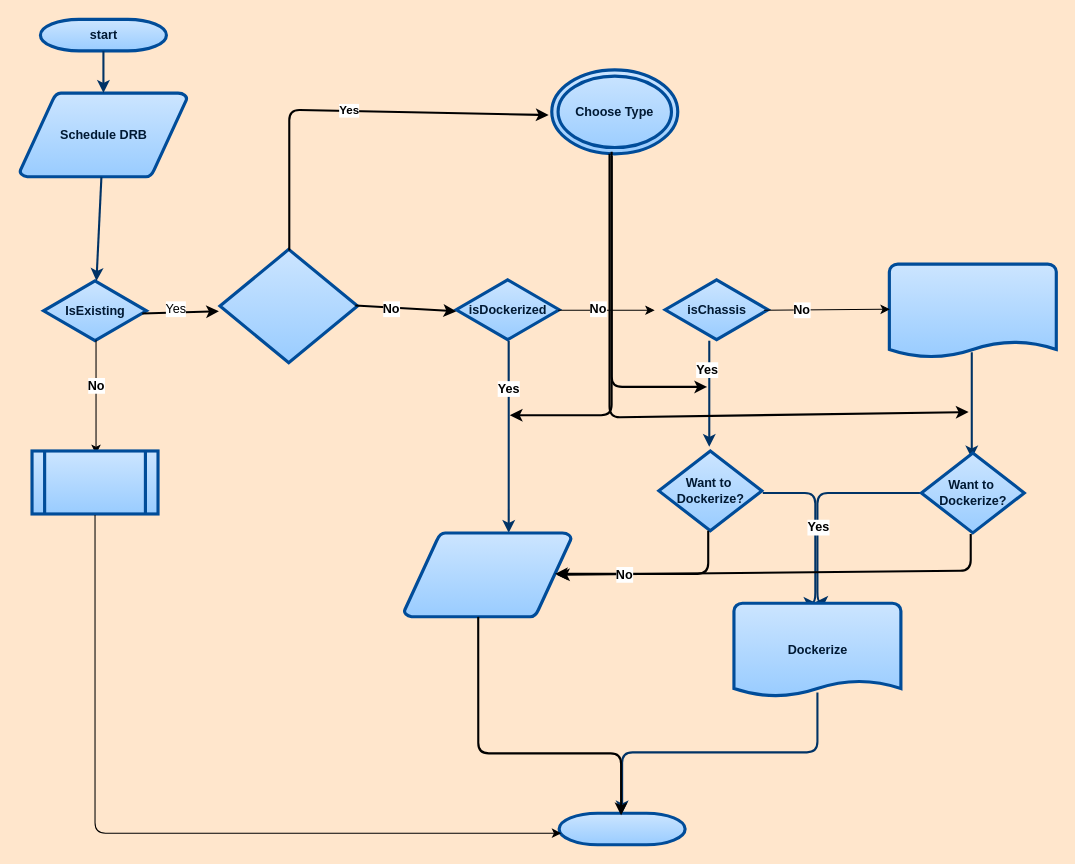
This 1075x864 diagram has some shape labels left out. The centre of each missing label's shape, as x and y in pixels:
"Create Repo Dockerize Setup CICD" goes at (94,482).
"Design Change" goes at (487,574).
"end" goes at (621,828).
"Multiple Instances In Production?" goes at (288,305).
"Tomcat Based API" goes at (972,311).
